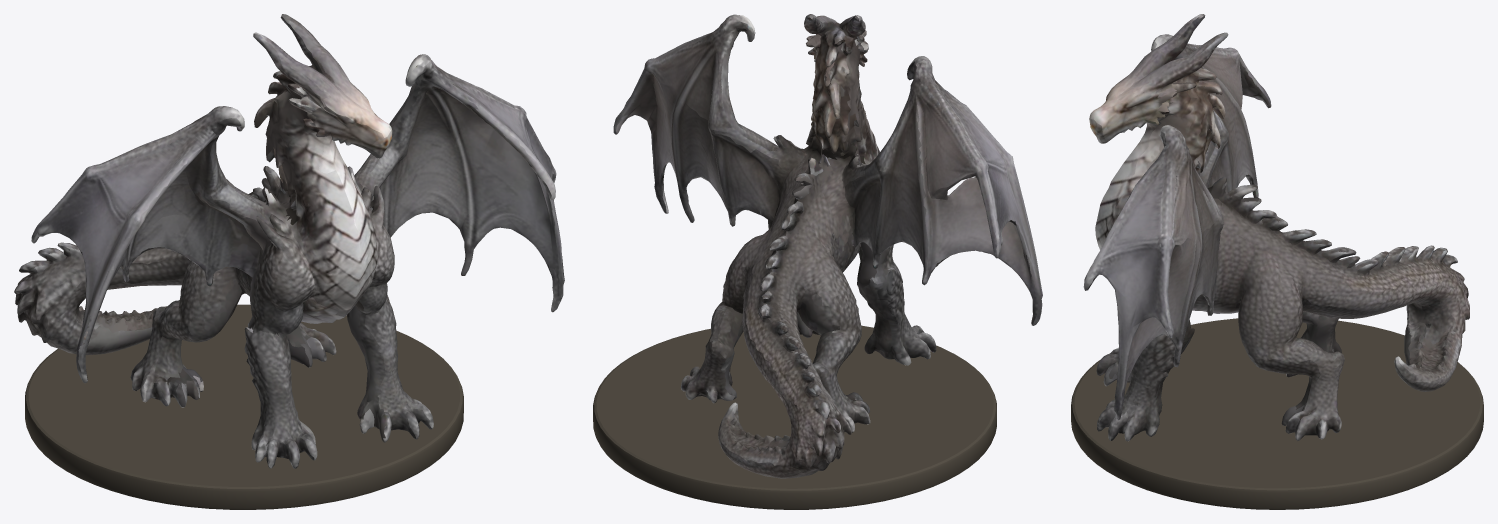
File: dragon.glb
3 renders of one model, left to right at view 1: azimuth 30°, elevation 25°; view 2: azimuth 150°, elevation 25°; view 3: azimuth 270°, elevation 25°, orthographic. The views are drawn at different scales.
Visible parts, largest first — view 1: dragon_body, dragon_round_base; view 2: dragon_body, dragon_round_base; view 3: dragon_body, dragon_round_base.
Part boxes in pixels (box(x1,y1,x2,y2)): dragon_body: box(14, 14, 564, 468); dragon_round_base: box(25, 304, 463, 509); dragon_body: box(613, 14, 1042, 478); dragon_round_base: box(593, 325, 996, 509); dragon_body: box(1083, 14, 1469, 441); dragon_round_base: box(1071, 318, 1483, 509).
Size of the model in its own units: 1.19 by 1.02 by 0.96.
2 materials, 1 textured.
